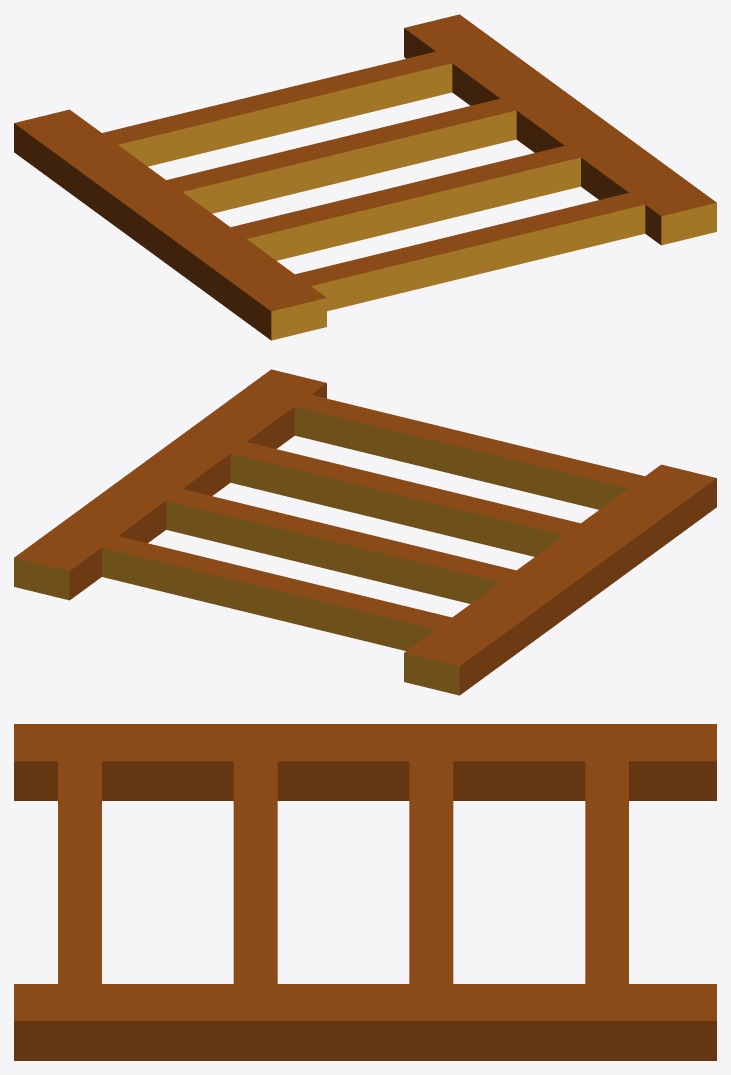
The model's file is step_ladder.glb.
3 renders of one model, top to bottom at view 1: azimuth 30°, elevation 25°; view 2: azimuth 150°, elevation 25°; view 3: azimuth 270°, elevation 25°, orthographic. The views are drawn at different scales.
Visible parts, largest first — view 1: Cube; view 2: Cube; view 3: Cube.
Boxes of the visible parts, <box> form: Cube: <box>14,14,716,340</box>; Cube: <box>14,369,716,695</box>; Cube: <box>14,724,716,1060</box>.
Bounding box in the file's own units: 1.6 × 0.1 × 1.6.
